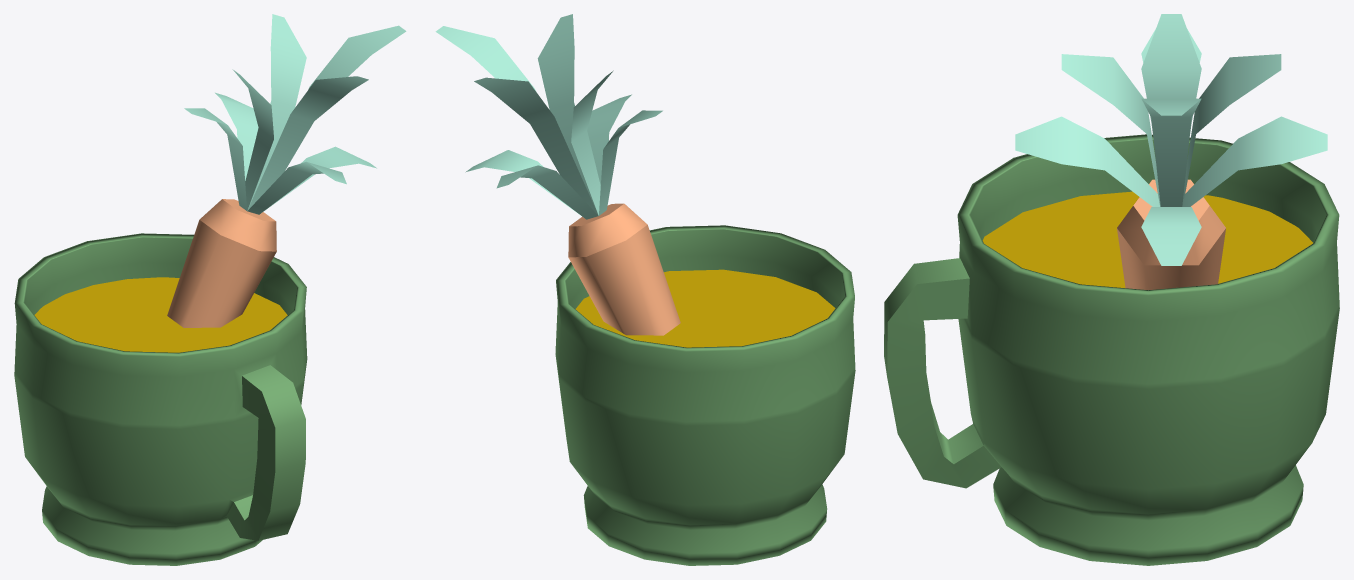
File: drink2_vegetative.fbx
3 views of the same model, side by side, from view 1: azimuth 30°, elevation 25°; view 2: azimuth 150°, elevation 25°; view 3: azimuth 270°, elevation 25° (orthographic). The views are drawn at different scales.
Visible parts, largest first — view 1: nurbsToPoly1, carrot, pDisc1; view 2: nurbsToPoly1, carrot, pDisc1; view 3: nurbsToPoly1, carrot, pDisc1.
Boxes of the visible parts, bbox=[...] form: nurbsToPoly1: bbox=[14, 233, 307, 565]; carrot: bbox=[167, 14, 406, 327]; pDisc1: bbox=[34, 277, 287, 352]; nurbsToPoly1: bbox=[555, 225, 855, 565]; carrot: bbox=[435, 14, 680, 335]; pDisc1: bbox=[575, 269, 835, 347]; nurbsToPoly1: bbox=[884, 134, 1339, 565]; carrot: bbox=[1015, 14, 1327, 289]; pDisc1: bbox=[982, 191, 1312, 288].
Size of the model in its own units: 45.33 by 48.56 by 36.48.
